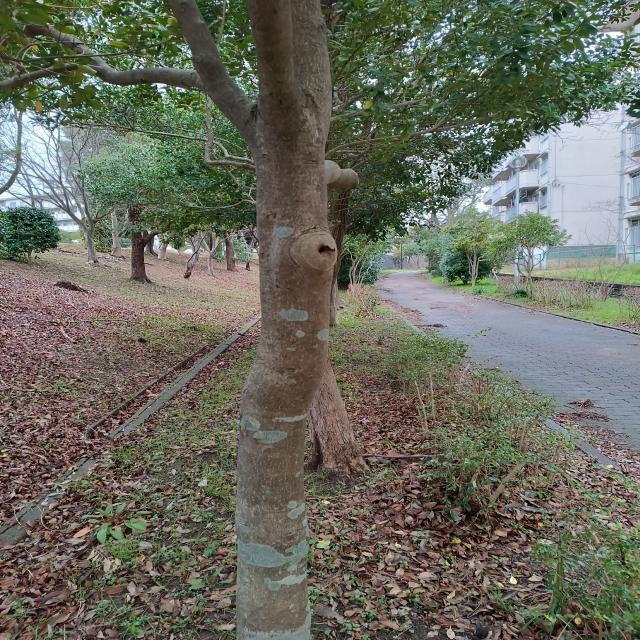Branch: (166, 0, 252, 149), (98, 61, 201, 91)
Twig: (21, 20, 107, 64), (1, 62, 102, 91)
